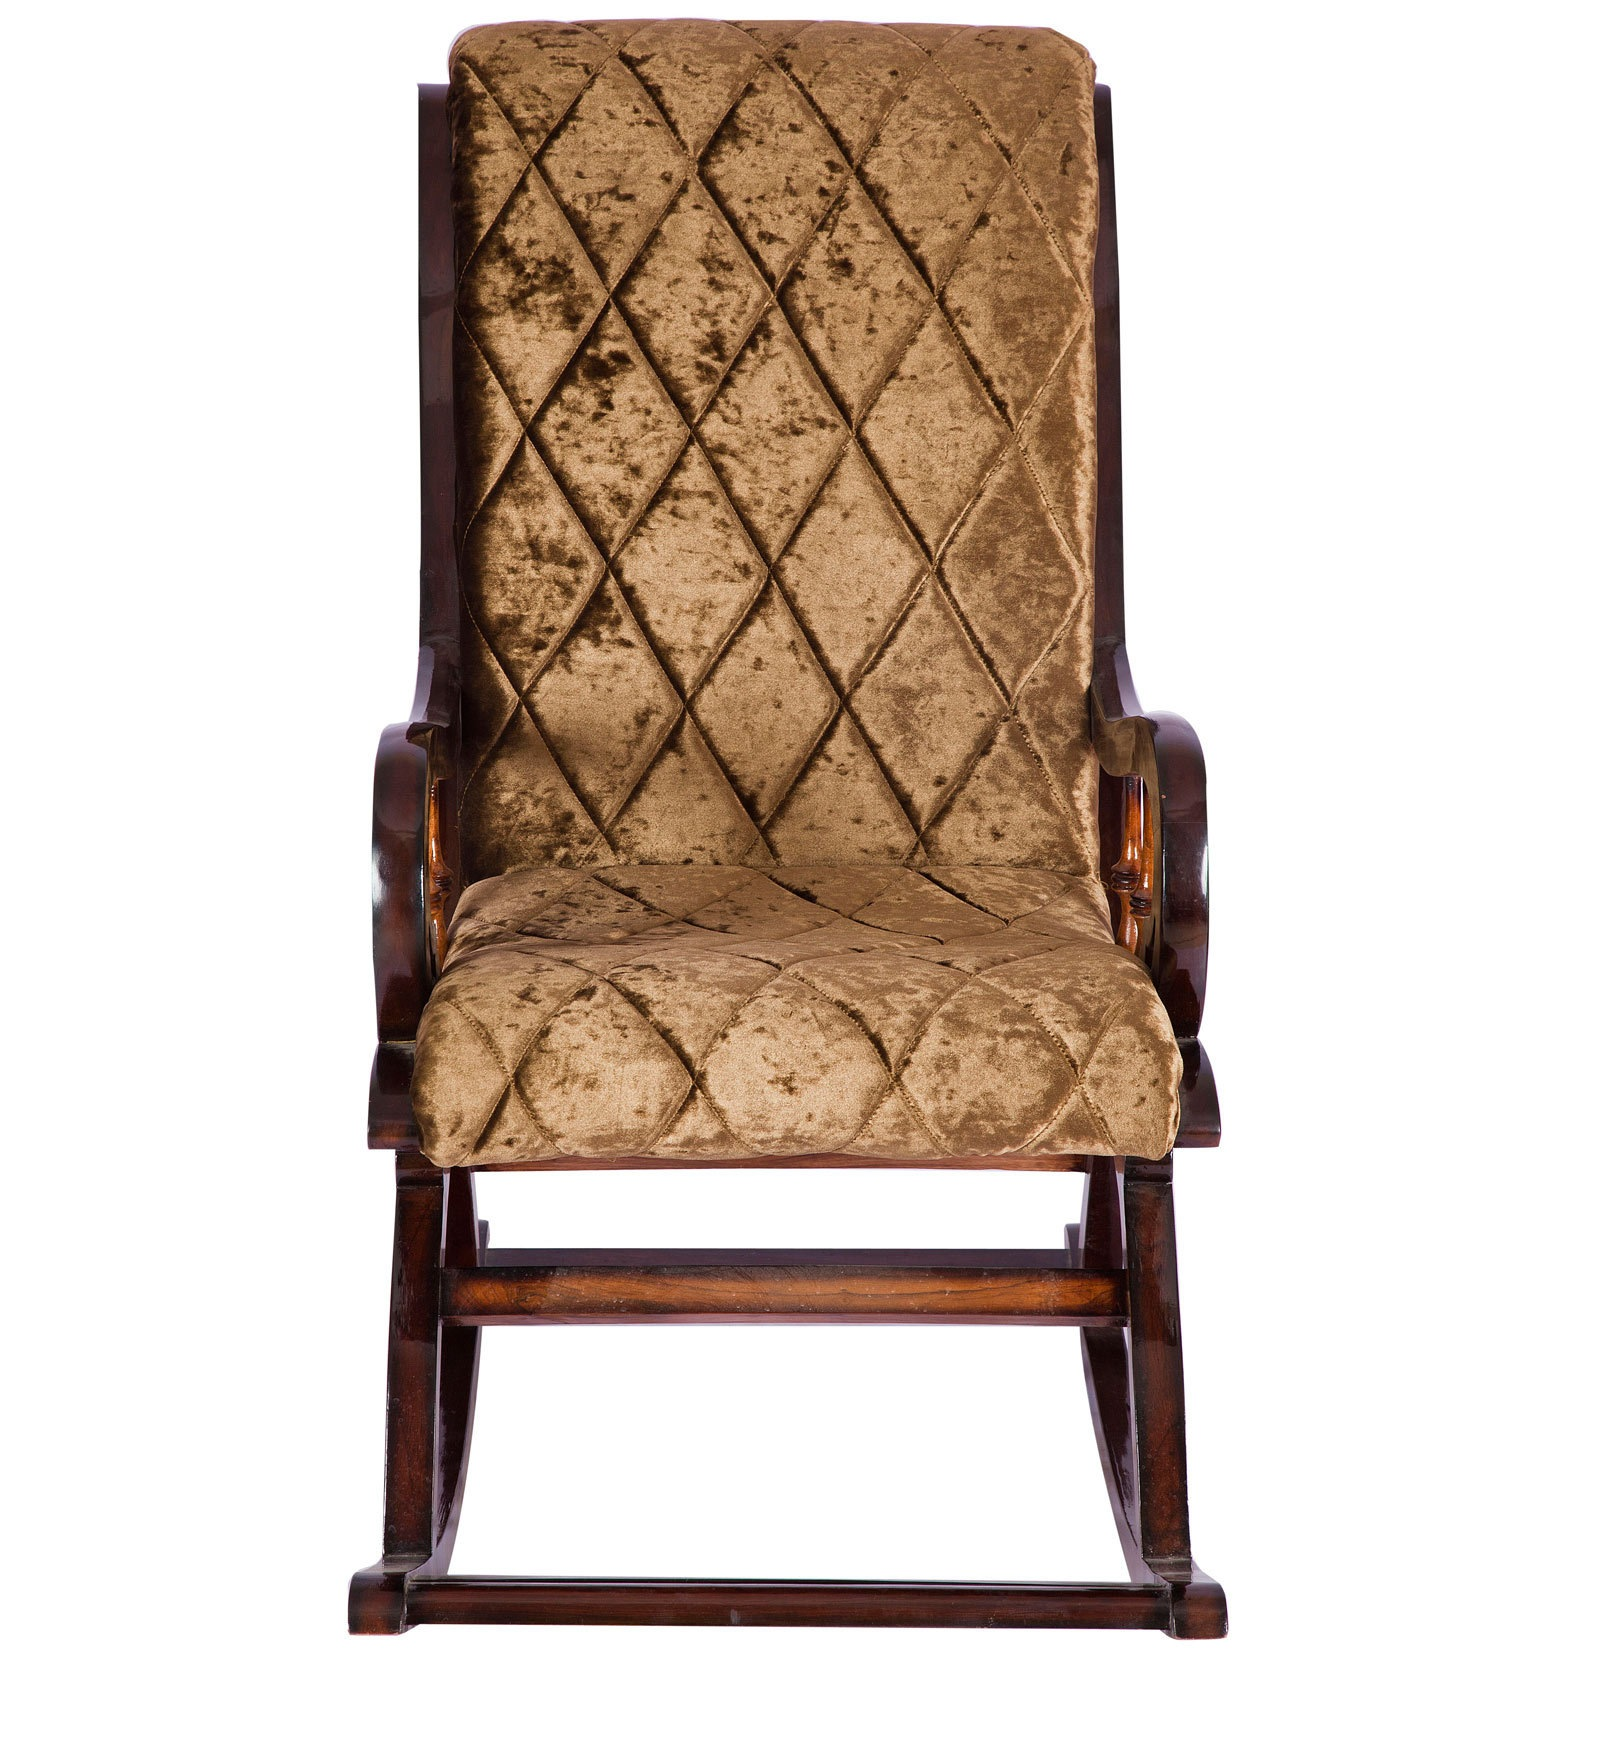Rocking Chair in Dark Brown Colour by Karigar: (299, 23, 1286, 1680)
